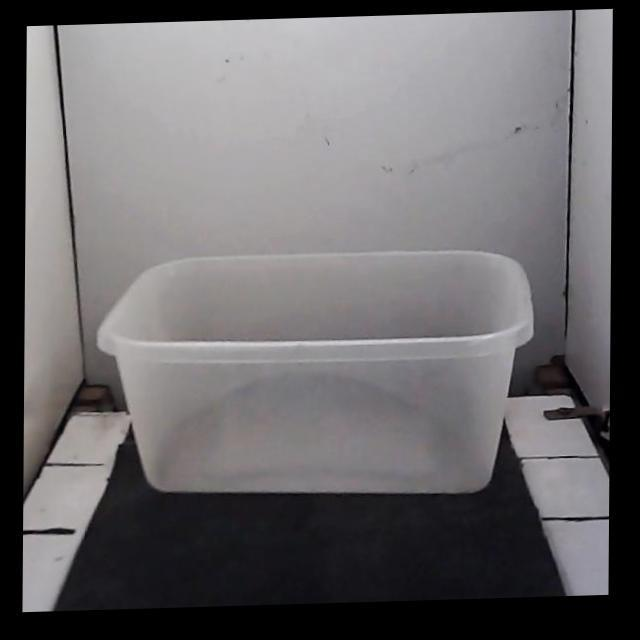plastico: (97, 250, 533, 493)
